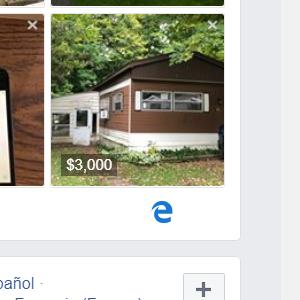edge: (152, 201, 172, 223)
